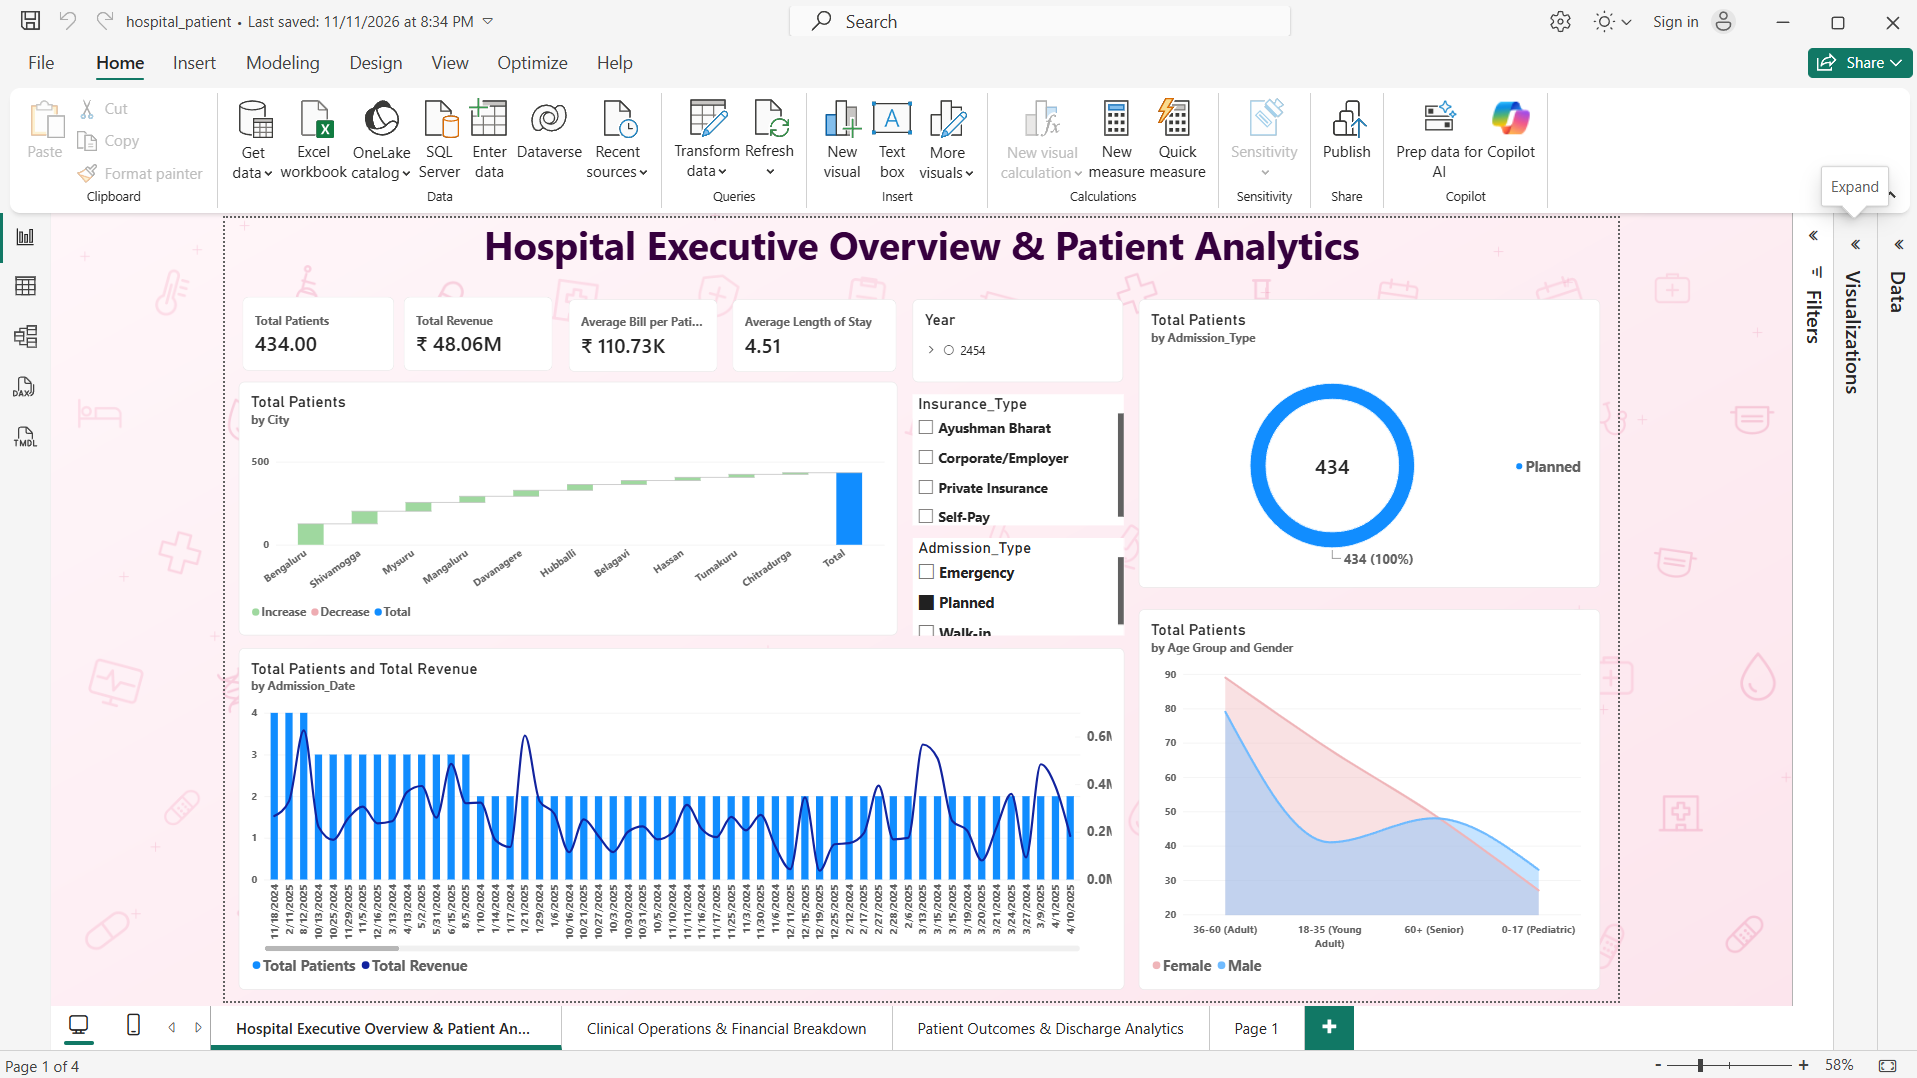

The page's visual inventory and layout, read from the dashboard file:
{"tool":"powerbi","page":{"name":" Hospital Executive Overview & Patient Analytics ","canvas":[1920,1080],"ordinal":0},"visuals":[{"type":"cardVisual","fields":{"Data":["Patient_Data.Total Patients"]},"box":[24.7,109.1,209.9,102.9],"z":0},{"type":"cardVisual","fields":{"Data":["Patient_Data.Total Revenue"]},"box":[247,109.1,205.8,102.9],"z":1},{"type":"cardVisual","fields":{"Data":["Patient_Data.Average Bill per Patient"]},"box":[473.4,111.1,205.8,100.9],"z":2},{"type":"cardVisual","fields":{"Data":["Patient_Data.Average Length of Stay"]},"box":[699.8,111.1,226.4,100.9],"z":3},{"type":"slicer","fields":{"Values":["Patient_Data.Admission_Type"]},"box":[947.8,441.3,291.3,134.8],"z":6},{"type":"slicer","fields":{"Values":["Patient_Data.Insurance_Type"]},"box":[946.8,242.9,291.3,180.4],"z":7},{"type":"lineClusteredColumnComboChart","fields":{"Category":["Patient_Data.Admission_Date"],"Y":["Patient_Data.Total Patients"],"Y2":["Patient_Data.Total Revenue"]},"box":[18.5,592.8,1220.6,471.4],"z":8},{"type":"areaChart","fields":{"Category":["Patient_Data.Age Group"],"Series":["Patient_Data.Gender"],"Y":["Patient_Data.Total Patients"]},"box":[1259.7,539.3,636,524.9],"z":9},{"type":"textbox","box":[0,0,1920.4,80.3],"z":10},{"type":"waterfallChart","fields":{"Category":["Patient_Data.City"],"Y":["Patient_Data.Total Patients"]},"box":[18.5,226.4,907.7,349.9],"z":11},{"type":"donutChart","fields":{"Category":["Patient_Data.Admission_Type"],"Y":["Patient_Data.Total Patients"]},"box":[1259.7,111.1,636,397.3],"z":12},{"type":"listSlicer","fields":{"Values":["Patient_Data.Month_Sort.Variation.Date Hierarchy.Year","Patient_Data.Month_Sort.Variation.Date Hierarchy.Quarter","Patient_Data.Month_Sort.Variation.Date Hierarchy.Month","Patient_Data.Month_Sort.Variation.Date Hierarchy.Day"]},"box":[948,112,290,114],"z":13}]}

Visuals, with their boxes on the page's 1920x1080 design canvas (x1, y1, x2, y2). These are canvas units, not pixel positions in the 1917x1078 screenshot, which may show the page scaled, cropped or inside an application window:
cardVisual - Patient_Data.Total Patients: <region>25, 109, 235, 212</region>
cardVisual - Patient_Data.Total Revenue: <region>247, 109, 453, 212</region>
cardVisual - Patient_Data.Average Bill per Patient: <region>473, 111, 679, 212</region>
cardVisual - Patient_Data.Average Length of Stay: <region>700, 111, 926, 212</region>
slicer - Patient_Data.Admission_Type: <region>948, 441, 1239, 576</region>
slicer - Patient_Data.Insurance_Type: <region>947, 243, 1238, 423</region>
lineClusteredColumnComboChart - Patient_Data.Admission_Date x Patient_Data.Total Patients: <region>18, 593, 1239, 1064</region>
areaChart - Patient_Data.Age Group x Patient_Data.Gender: <region>1260, 539, 1896, 1064</region>
textbox: <region>0, 0, 1920, 80</region>
waterfallChart - Patient_Data.City x Patient_Data.Total Patients: <region>18, 226, 926, 576</region>
donutChart - Patient_Data.Admission_Type x Patient_Data.Total Patients: <region>1260, 111, 1896, 508</region>
listSlicer - Patient_Data.Month_Sort.Variation.Date Hierarchy.Year x Patient_Data.Month_Sort.Variation.Date Hierarchy.Quarter: <region>948, 112, 1238, 226</region>
